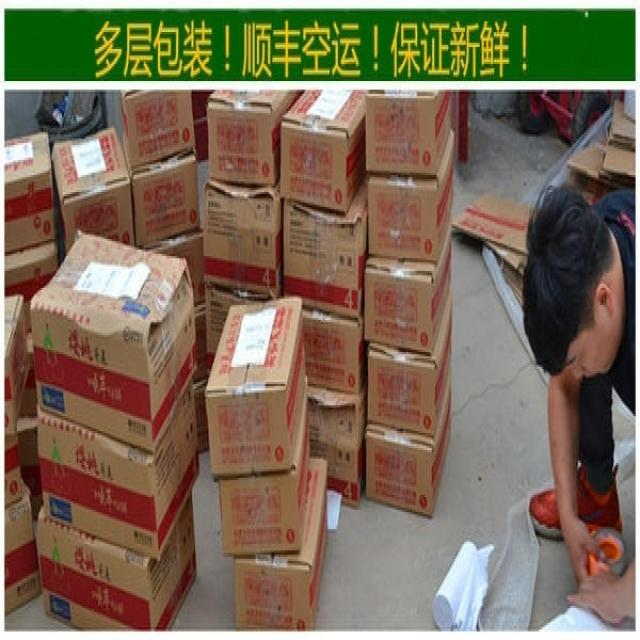box: (30, 230, 196, 454), (36, 375, 201, 563), (37, 493, 197, 631), (205, 294, 307, 482), (220, 373, 310, 555), (234, 457, 327, 631), (366, 361, 452, 518), (367, 284, 452, 437), (283, 171, 368, 320), (364, 215, 452, 356), (368, 128, 454, 265), (51, 124, 137, 254), (281, 90, 366, 215), (203, 177, 282, 299), (207, 90, 299, 186), (366, 92, 452, 177), (308, 384, 367, 506), (130, 149, 201, 245), (4, 130, 57, 254), (204, 284, 269, 380), (121, 92, 196, 169), (137, 228, 204, 311), (302, 307, 364, 393), (4, 237, 59, 333), (4, 482, 42, 617), (16, 365, 43, 518), (4, 294, 30, 435), (4, 433, 23, 510), (195, 382, 210, 454)
